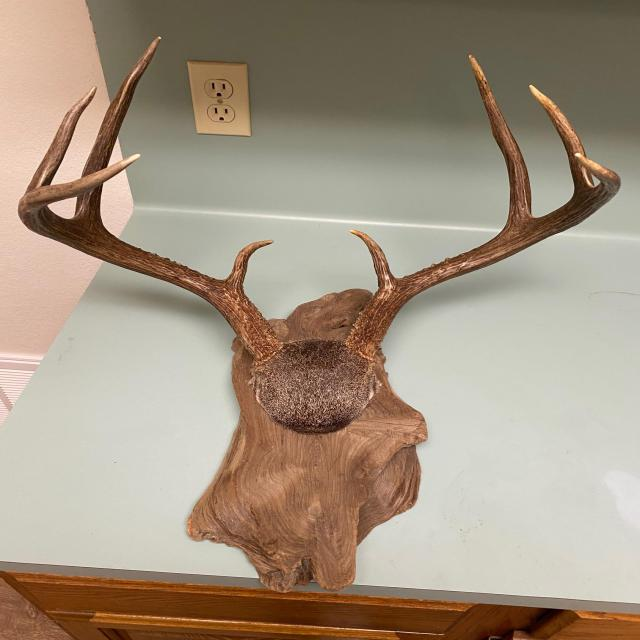L-F: (342, 153, 622, 363)
L-G1: (349, 229, 399, 289)
L-G2: (467, 53, 536, 227)
L-G3: (528, 84, 595, 197)
R-F: (17, 152, 284, 366)
R-G1: (223, 240, 274, 293)
